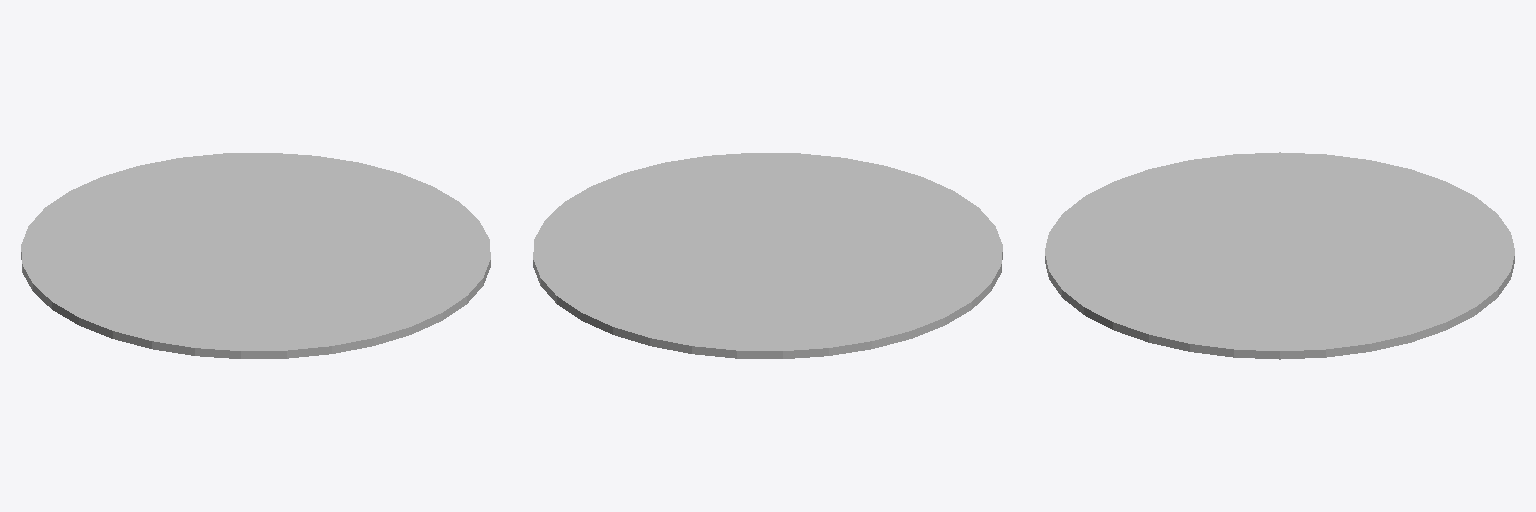
The model's file is lasercircle.obj.
The picture shows the model from 3 angles: view 1: azimuth 30°, elevation 25°; view 2: azimuth 150°, elevation 25°; view 3: azimuth 270°, elevation 25°; orthographic projection.
Parts seen in each view (by area): view 1: Cylinder; view 2: Cylinder; view 3: Cylinder.
Part boxes in pixels (x1,y1,x2,y2): Cylinder: (21, 153, 490, 358); Cylinder: (533, 153, 1002, 358); Cylinder: (1045, 152, 1514, 359).
Size of the model in its own units: 1.96 by 0.0372 by 1.96.